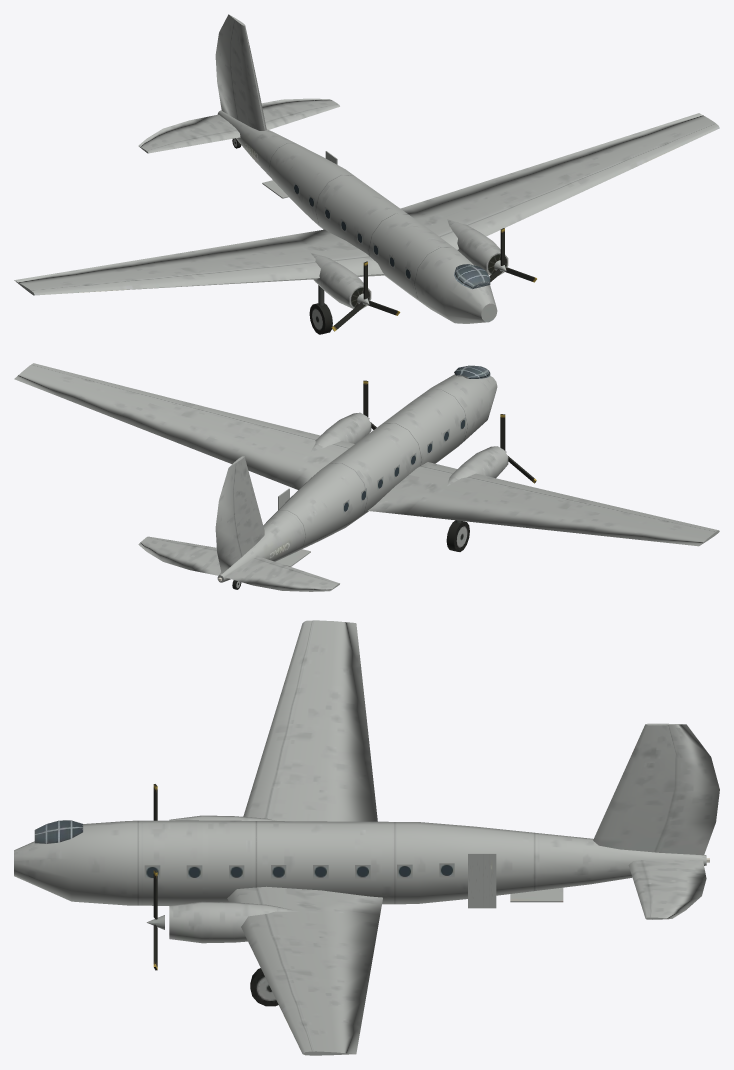
Rendered from airTransport.glb.
3 views of the same model, one above another, from view 1: azimuth 30°, elevation 25°; view 2: azimuth 150°, elevation 25°; view 3: azimuth 270°, elevation 25° (orthographic). The views are drawn at different scales.
Visible parts, largest first — view 1: fuselage, hublots, prop_right_pales, wheel_right; view 2: fuselage, wheel_right, hublots, prop_right_pales; view 3: fuselage, hublots, cabin_door.
Boxes of the visible parts, x1=… form: fuselage: x1=14, y1=14, x2=719, y2=323; hublots: x1=293, y1=182, x2=411, y2=281; prop_right_pales: x1=331, y1=261, x2=400, y2=331; wheel_right: x1=309, y1=303, x2=332, y2=334; fuselage: x1=14, y1=363, x2=719, y2=591; wheel_right: x1=446, y1=521, x2=469, y2=551; hublots: x1=343, y1=417, x2=465, y2=514; prop_right_pales: x1=500, y1=414, x2=536, y2=483; fuselage: x1=14, y1=620, x2=719, y2=1055; hublots: x1=144, y1=863, x2=454, y2=879; cabin_door: x1=468, y1=853, x2=496, y2=908.
Bounding box in the file's own units: 28.96 × 7.41 × 20.04.
6 materials, 5 textured.
